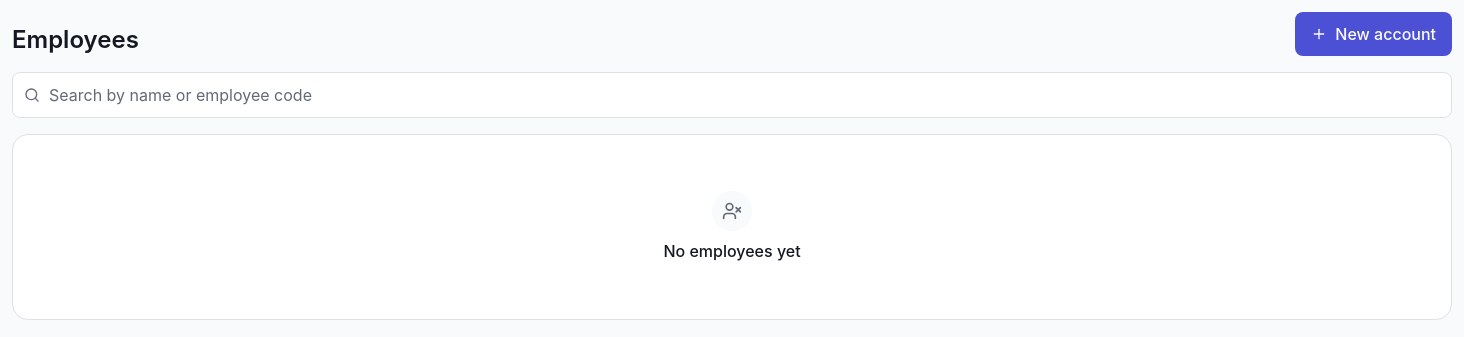
it: EmployeesPage › shows an empty search result
Step 1. Type "zzz" into the search field named "Search employees" → (732, 95), box [12, 72, 1452, 118]
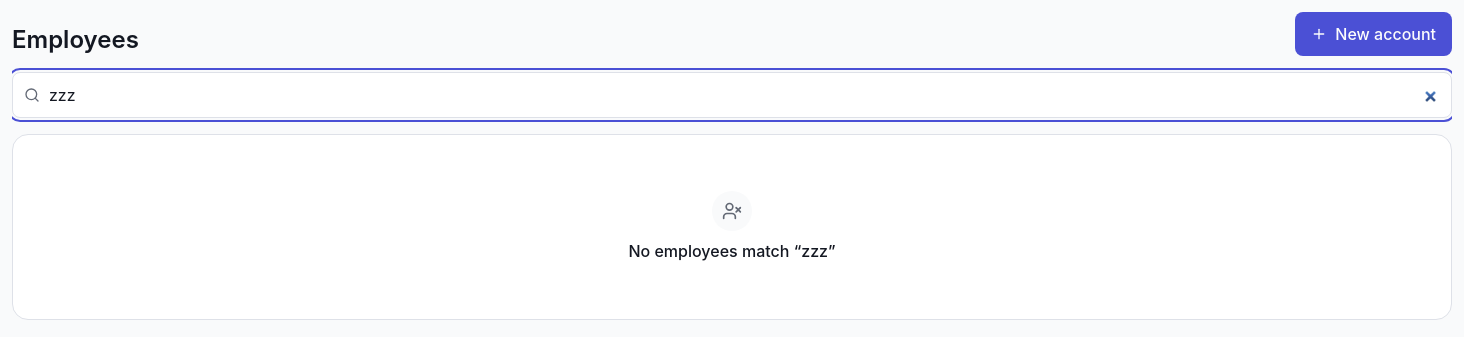
Expected: the text "No employees match “zzz”" is shown, [628, 239, 836, 263]
